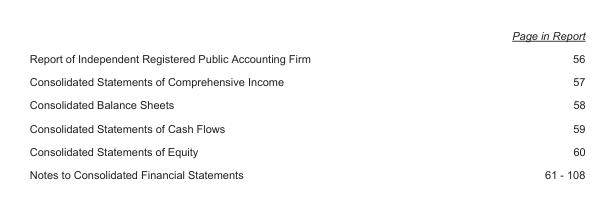table: (28, 28, 584, 180)
table column: (28, 28, 410, 180), (410, 28, 584, 180)
table column header: (28, 28, 584, 46)
table row: (28, 69, 584, 93), (28, 46, 584, 69), (28, 93, 584, 116), (28, 116, 584, 139), (28, 139, 584, 162), (28, 28, 584, 46), (28, 162, 584, 180)
